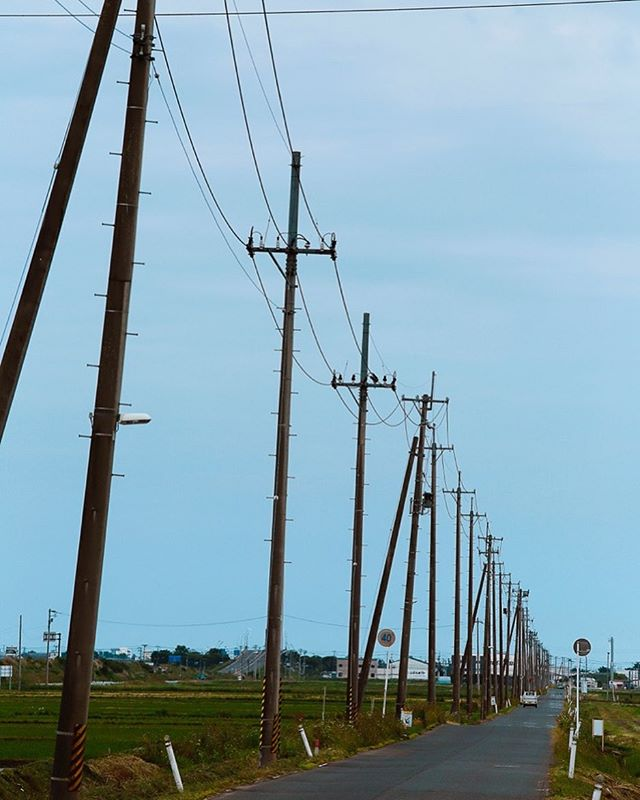grass: (1, 677, 406, 800)
power pole: (239, 125, 353, 760), (324, 292, 403, 730), (390, 365, 454, 726)
sky: (27, 1, 640, 600)
street: (221, 681, 587, 800)
